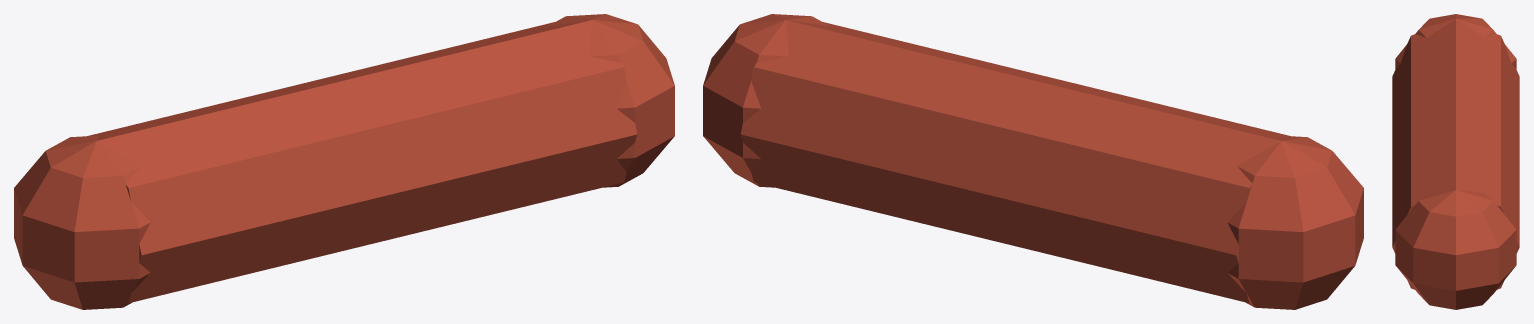
File: dog_sausage.glb
The picture shows the model from 3 angles, left to right: view 1: azimuth 30°, elevation 25°; view 2: azimuth 150°, elevation 25°; view 3: azimuth 270°, elevation 25°; orthographic projection. The views are drawn at different scales.
Visible parts, largest first — view 1: food_sausage; view 2: food_sausage; view 3: food_sausage.
Part boxes in pixels (x1,y1,x2,y2): food_sausage: [14, 14, 674, 309]; food_sausage: [703, 14, 1363, 309]; food_sausage: [1392, 14, 1519, 309].
Bounding box in the file's own units: 0.1818 × 0.044 × 0.044.
